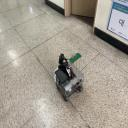cart: (54, 60, 84, 102)
